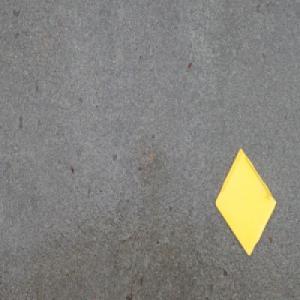PlasticPart: (214, 147, 278, 257)
